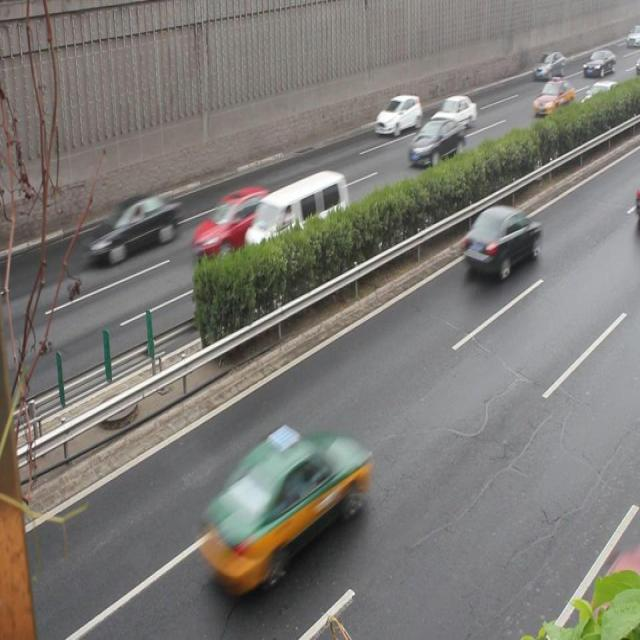car: (200, 427, 366, 576), (85, 190, 179, 260), (189, 186, 272, 258), (460, 204, 537, 276), (405, 115, 462, 164), (428, 91, 476, 132), (374, 93, 419, 135), (530, 76, 572, 116), (531, 49, 562, 78)
